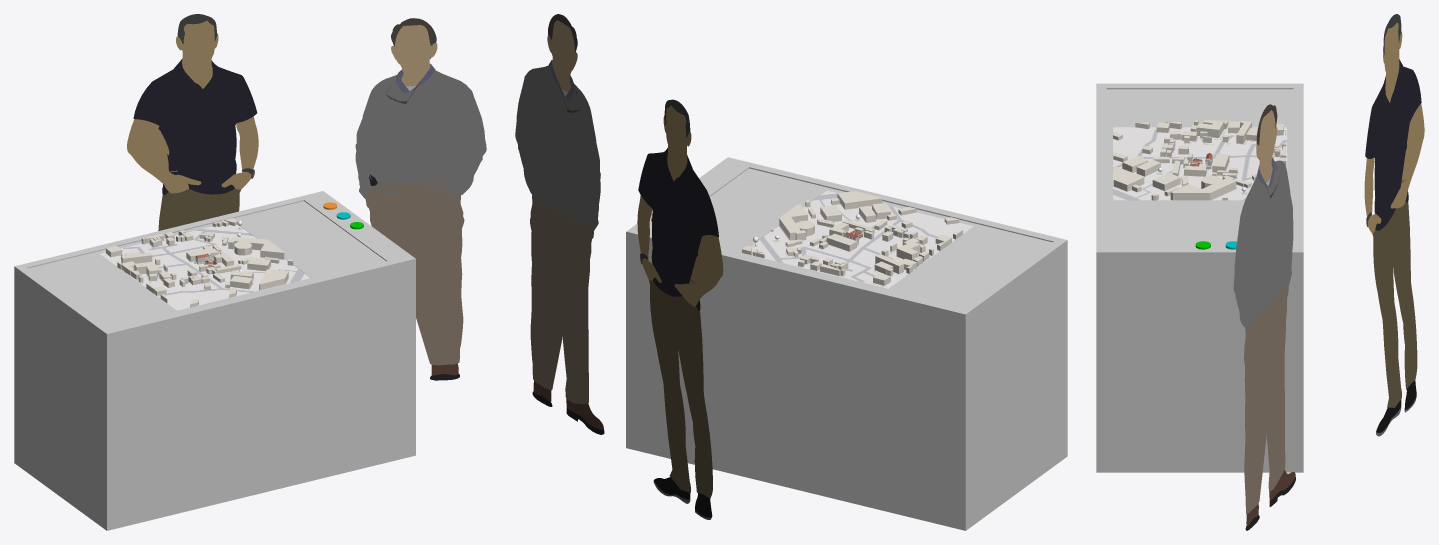
The model's file is V campus model.obj.
3 views of the same model, side by side, from view 1: azimuth 30°, elevation 25°; view 2: azimuth 150°, elevation 25°; view 3: azimuth 270°, elevation 25° (orthographic). The views are drawn at different scales.
Visible parts, largest first — view 1: Mesh5676 Group5094 Model, Mesh1 Group1 Model, Mesh5681 Derrick1 Model, Mesh5680 Chris1 Model, Mesh5682 Model, Mesh5625 Buildings_47 Group5092 Model; view 2: Mesh5676 Group5094 Model, Mesh1 Group1 Model, Mesh5681 Derrick1 Model, Mesh5680 Chris1 Model, Mesh5682 Model, Mesh5625 Buildings_47 Group5092 Model; view 3: Mesh5676 Group5094 Model, Mesh1 Group1 Model, Mesh5681 Derrick1 Model, Mesh5680 Chris1 Model, Mesh5682 Model, Mesh5625 Buildings_47 Group5092 Model, Mesh5657 Buildings_73 Group5092 Model.
Boxes of the visible parts, <box> form: Mesh5676 Group5094 Model: <box>14,290,415,530</box>; Mesh1 Group1 Model: <box>14,191,415,364</box>; Mesh5681 Derrick1 Model: <box>355,18,486,380</box>; Mesh5680 Chris1 Model: <box>127,14,258,230</box>; Mesh5682 Model: <box>99,224,310,310</box>; Mesh5625 Buildings_47 Group5092 Model: <box>228,236,284,259</box>; Mesh5676 Group5094 Model: <box>626,266,1067,530</box>; Mesh1 Group1 Model: <box>626,157,1067,348</box>; Mesh5681 Derrick1 Model: <box>515,14,604,434</box>; Mesh5680 Chris1 Model: <box>637,99,723,519</box>; Mesh5682 Model: <box>741,190,973,288</box>; Mesh5625 Buildings_47 Group5092 Model: <box>779,204,814,240</box>; Mesh5676 Group5094 Model: <box>1096,287,1303,472</box>; Mesh1 Group1 Model: <box>1096,83,1303,287</box>; Mesh5681 Derrick1 Model: <box>1233,104,1295,530</box>; Mesh5680 Chris1 Model: <box>1364,14,1424,436</box>; Mesh5682 Model: <box>1113,127,1287,200</box>; Mesh5625 Buildings_47 Group5092 Model: <box>1170,175,1236,200</box>; Mesh5657 Buildings_73 Group5092 Model: <box>1113,166,1144,191</box>.
Size of what is drawn, in the model's own units: 2227 by 1765 by 1282.
